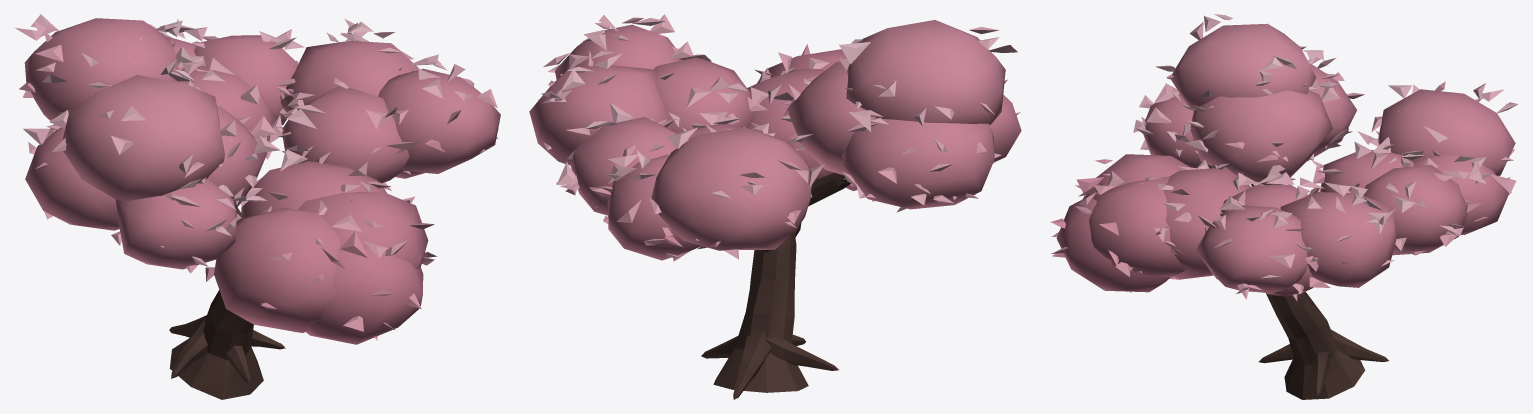
File: sakura_2.glb
The picture shows the model from 3 angles, left to right: view 1: azimuth 30°, elevation 25°; view 2: azimuth 150°, elevation 25°; view 3: azimuth 270°, elevation 25°; orthographic projection. The views are drawn at different scales.
Parts seen in each view (by area): view 1: sakura_2; view 2: sakura_2; view 3: sakura_2.
Boxes of the visible parts, x1,y1,x2,y2 form: sakura_2: (14,14,500,399); sakura_2: (529,14,1021,399); sakura_2: (1050,14,1518,399).
Bounding box in the file's own units: 9.35 × 7.18 × 10.02.
